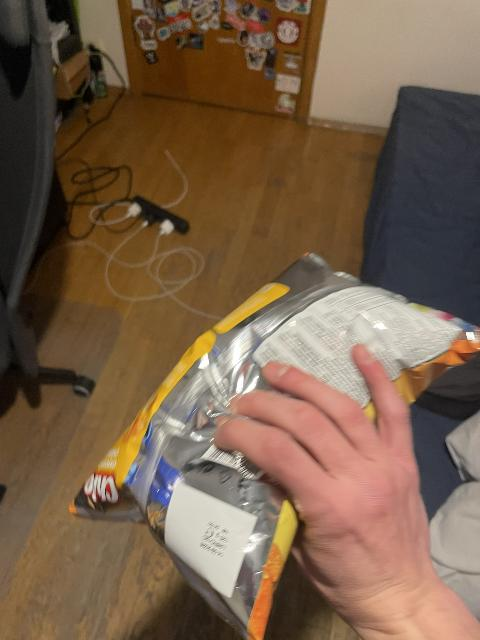Chio Cascaval 125g: (65, 250, 480, 636)
